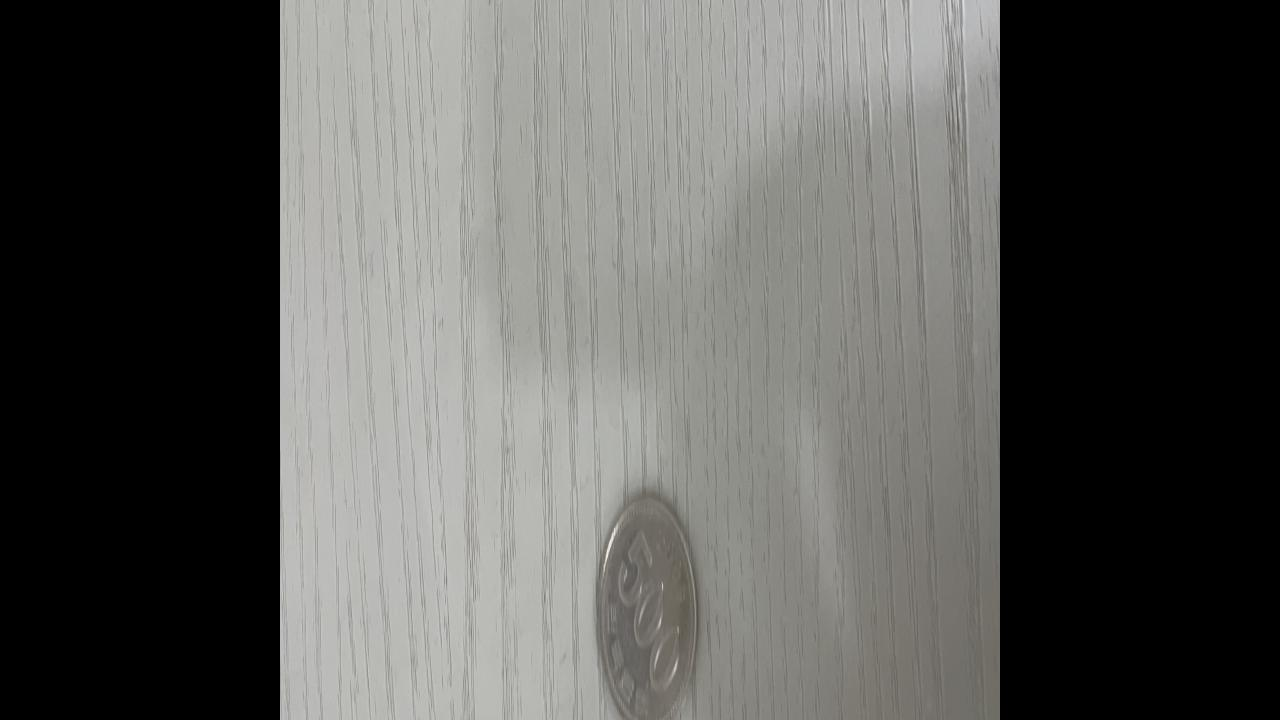coin: (594, 477, 702, 720)
